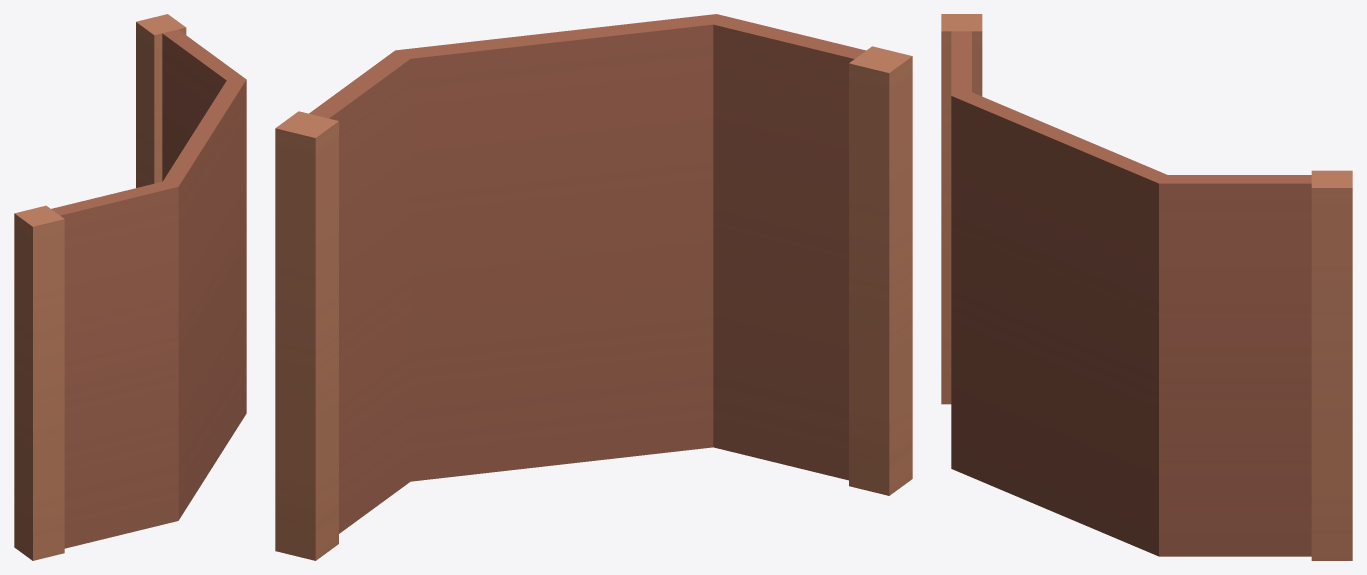
The model's file is wall-wood-corner-diagonal.fbx.
The picture shows the model from 3 angles, left to right: view 1: azimuth 30°, elevation 25°; view 2: azimuth 150°, elevation 25°; view 3: azimuth 270°, elevation 25°; orthographic projection. The views are drawn at different scales.
Visible parts, largest first — view 1: wall-wood-corner-diagonal; view 2: wall-wood-corner-diagonal; view 3: wall-wood-corner-diagonal.
Part boxes in pixels (bbox=[...]): wall-wood-corner-diagonal: bbox=[14, 14, 246, 560]; wall-wood-corner-diagonal: bbox=[275, 14, 912, 560]; wall-wood-corner-diagonal: bbox=[941, 14, 1352, 560].
Bounding box in the file's own units: 100 × 100 × 100.
1 material, 1 textured.
